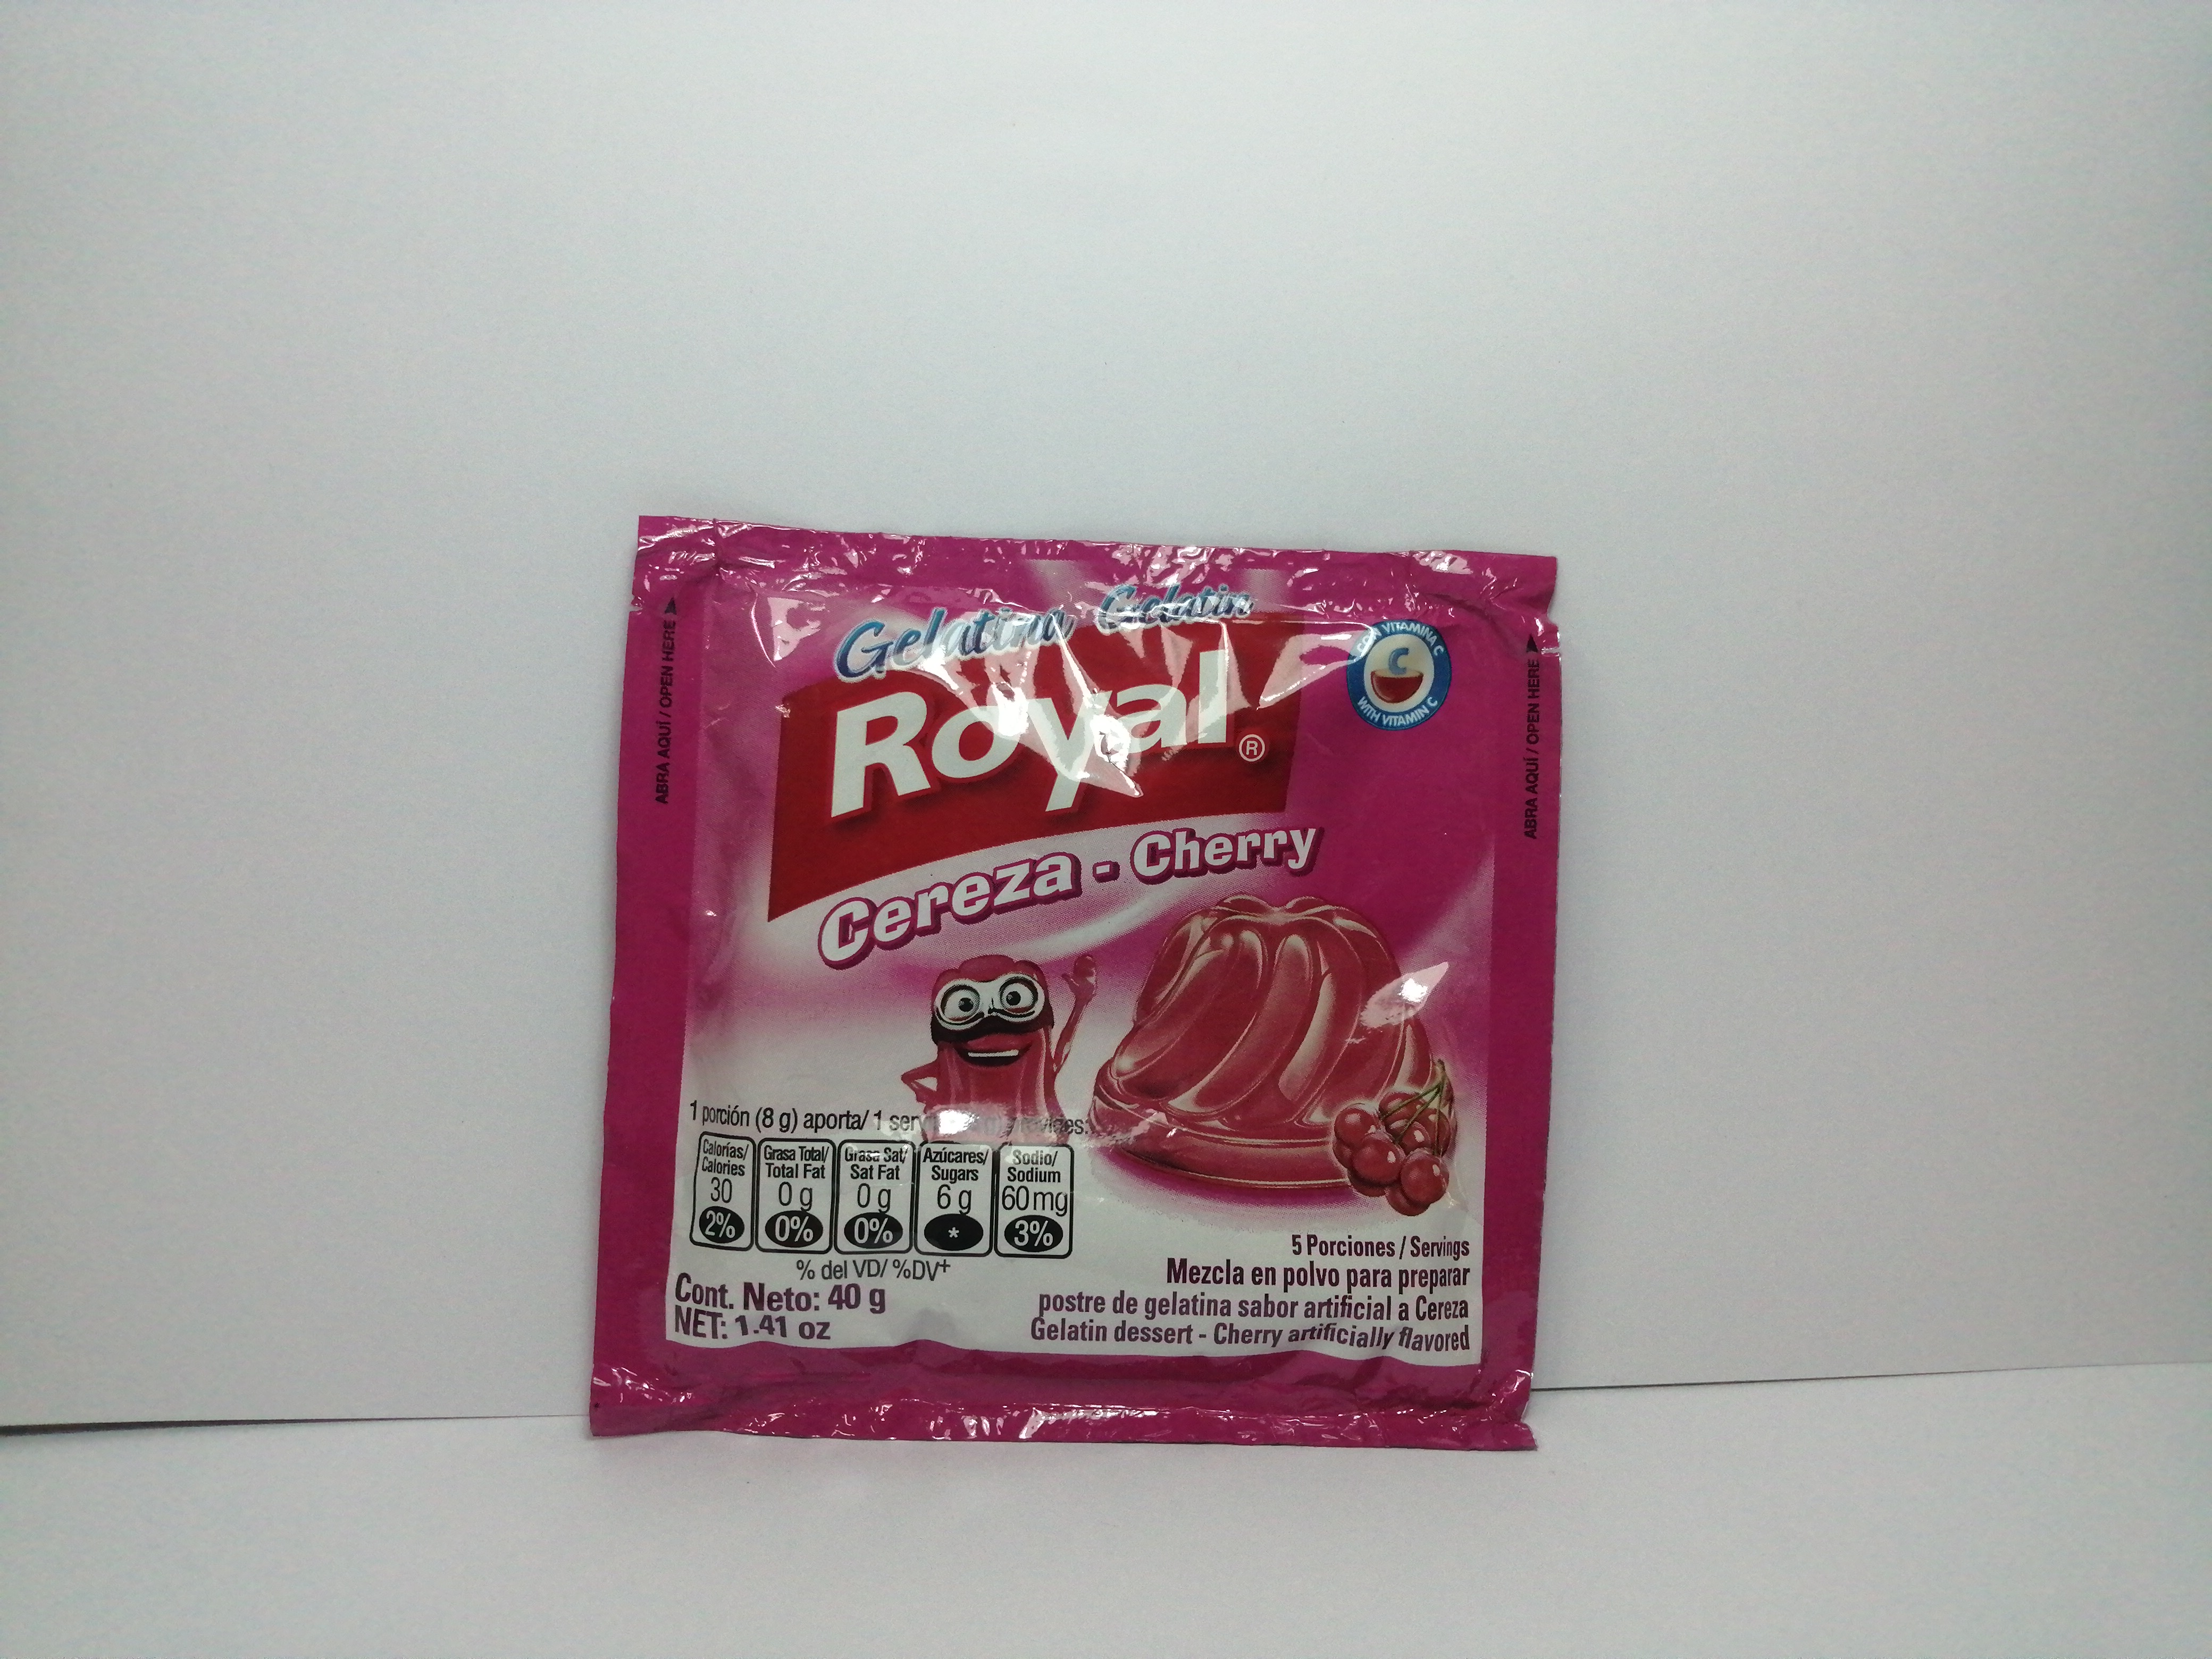gelatina: (587, 511, 1564, 1466)
